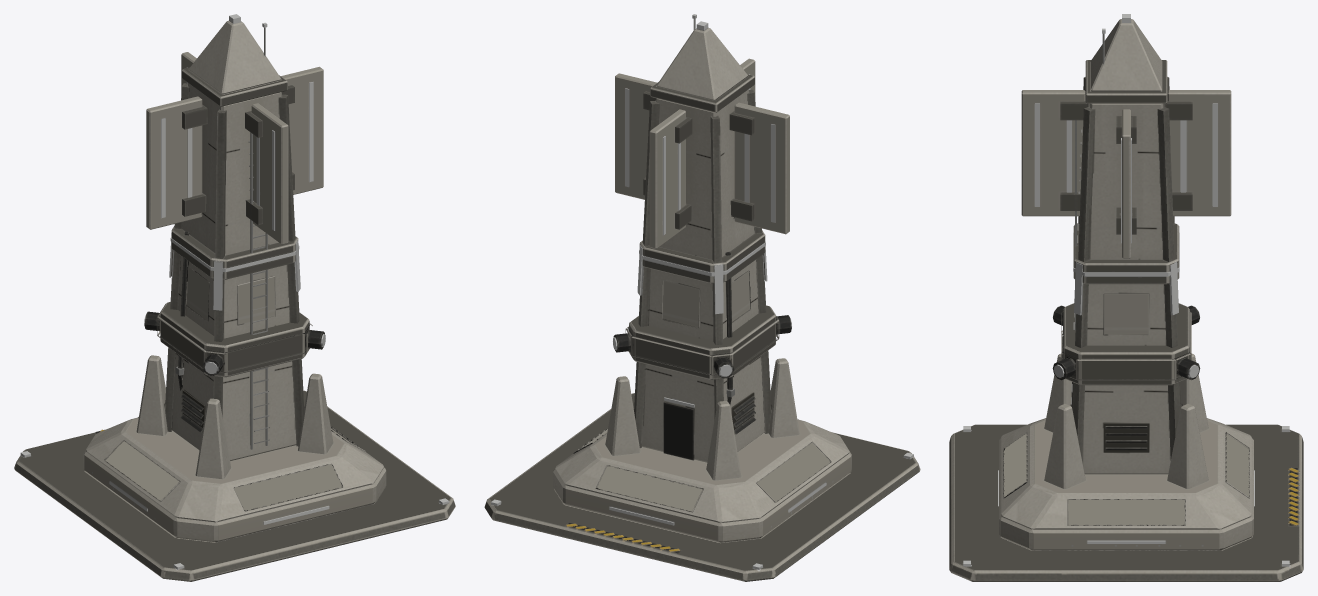
File: ord_veilspire.fbx
3 renders of one model, left to right at view 1: azimuth 30°, elevation 25°; view 2: azimuth 150°, elevation 25°; view 3: azimuth 270°, elevation 25°, orthographic. The views are drawn at different scales.
Visible parts, largest first — view 1: base_bar, band_bar, base_glow_running_bar, base_glow_power_bar; view 2: base_bar, band_bar, base_glow_running_bar, base_glow_power_bar; view 3: base_bar, band_bar, base_glow_running_bar, base_glow_power_bar.
Boxes of the visible parts, x1,y1,x2,y2 form: base_bar: [14, 20, 455, 581]; band_bar: [144, 302, 324, 377]; base_glow_running_bar: [20, 14, 449, 569]; base_glow_power_bar: [161, 67, 313, 230]; base_bar: [484, 19, 920, 581]; band_bar: [613, 305, 791, 379]; base_glow_running_bar: [491, 14, 913, 569]; base_glow_power_bar: [625, 74, 775, 235]; base_bar: [949, 19, 1303, 581]; band_bar: [1052, 303, 1200, 385]; base_glow_running_bar: [963, 14, 1289, 566]; base_glow_power_bar: [1035, 103, 1217, 243].
Bounding box in the file's own units: 1555 × 2585 × 1555.
Materials: 2 (2 with a texture image).
